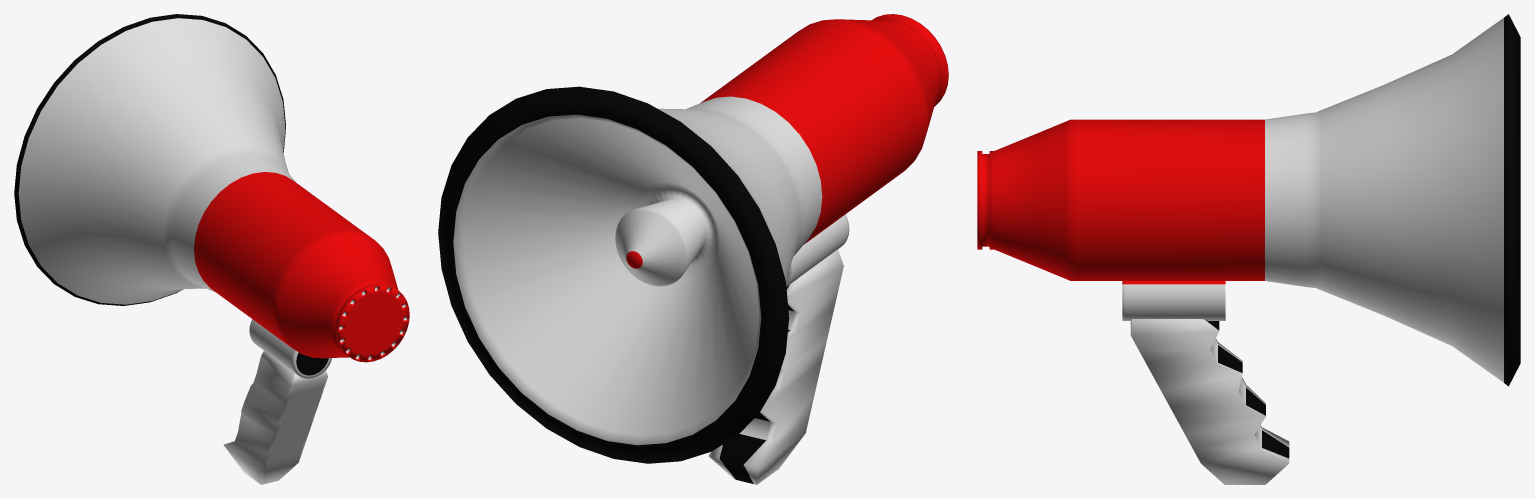
The model's file is megaphone.fbx.
3 views of the same model, side by side, from view 1: azimuth 30°, elevation 25°; view 2: azimuth 150°, elevation 25°; view 3: azimuth 270°, elevation 25° (orthographic). The views are drawn at different scales.
Parts seen in each view (by area): view 1: Cylinder.001; view 2: Cylinder.001; view 3: Cylinder.001.
Part boxes in pixels (x1,y1,x2,y2): Cylinder.001: [14, 14, 409, 484]; Cylinder.001: [438, 14, 948, 484]; Cylinder.001: [977, 14, 1520, 484].
Bounding box in the file's own units: 289 × 383 × 420.
